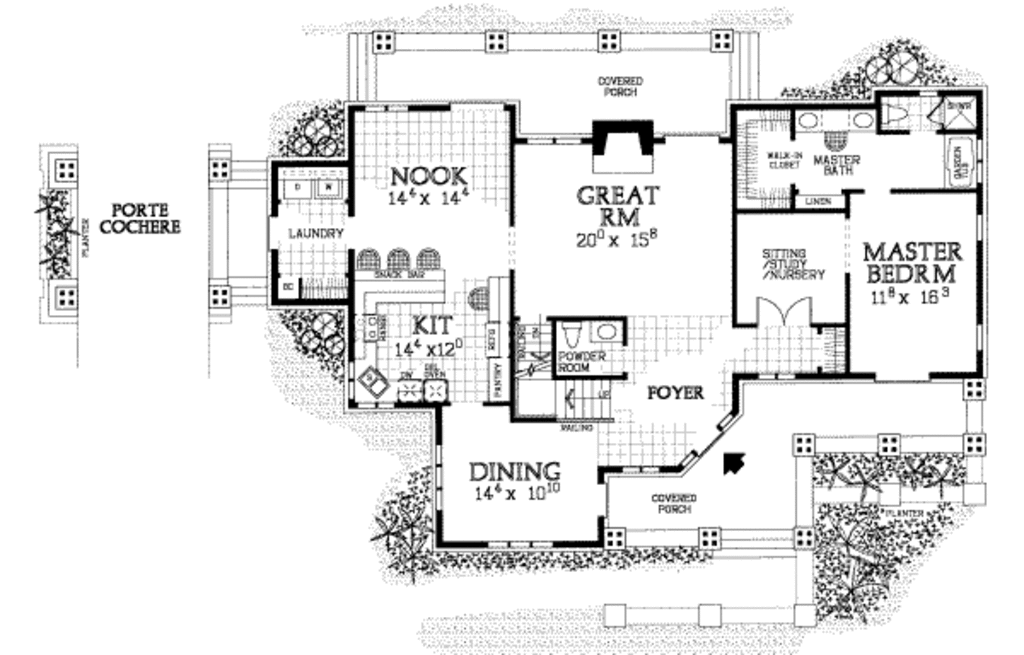door: (753, 291, 821, 331)
kitchen_bar: (350, 250, 459, 314)
large_sink: (875, 92, 909, 137), (557, 318, 584, 350)
small_sink: (798, 103, 872, 130)
stairs: (517, 314, 631, 421)
tub: (945, 130, 976, 188)
twin_sink: (350, 360, 394, 404)
window: (427, 439, 447, 511), (487, 535, 554, 551), (528, 133, 582, 150), (356, 98, 412, 114)
